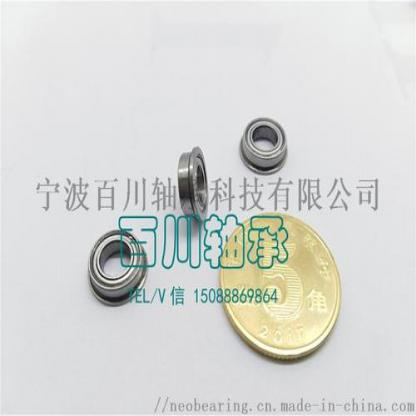FOD: (84, 225, 147, 307), (237, 114, 290, 179), (177, 143, 210, 229)
